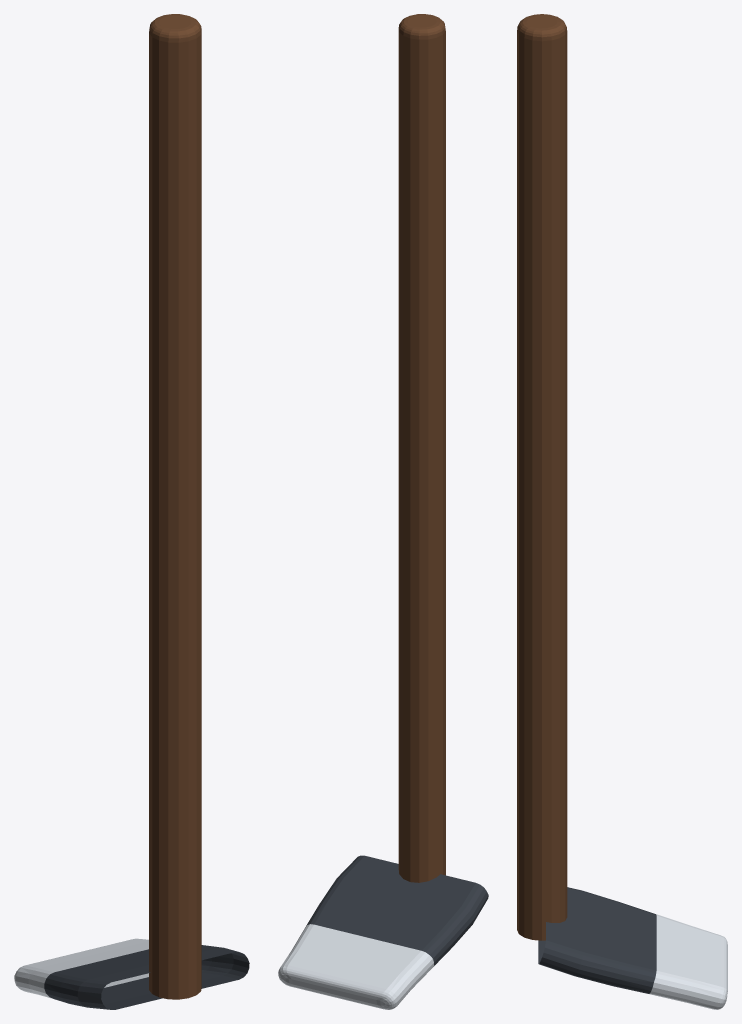
The model's file is PropHoe.obj.
The picture shows the model from 3 angles, left to right: view 1: azimuth 30°, elevation 25°; view 2: azimuth 150°, elevation 25°; view 3: azimuth 270°, elevation 25°; orthographic projection. The views are drawn at different scales.
Bounding box in the file's own units: 0.44 × 2.75 × 0.547.
